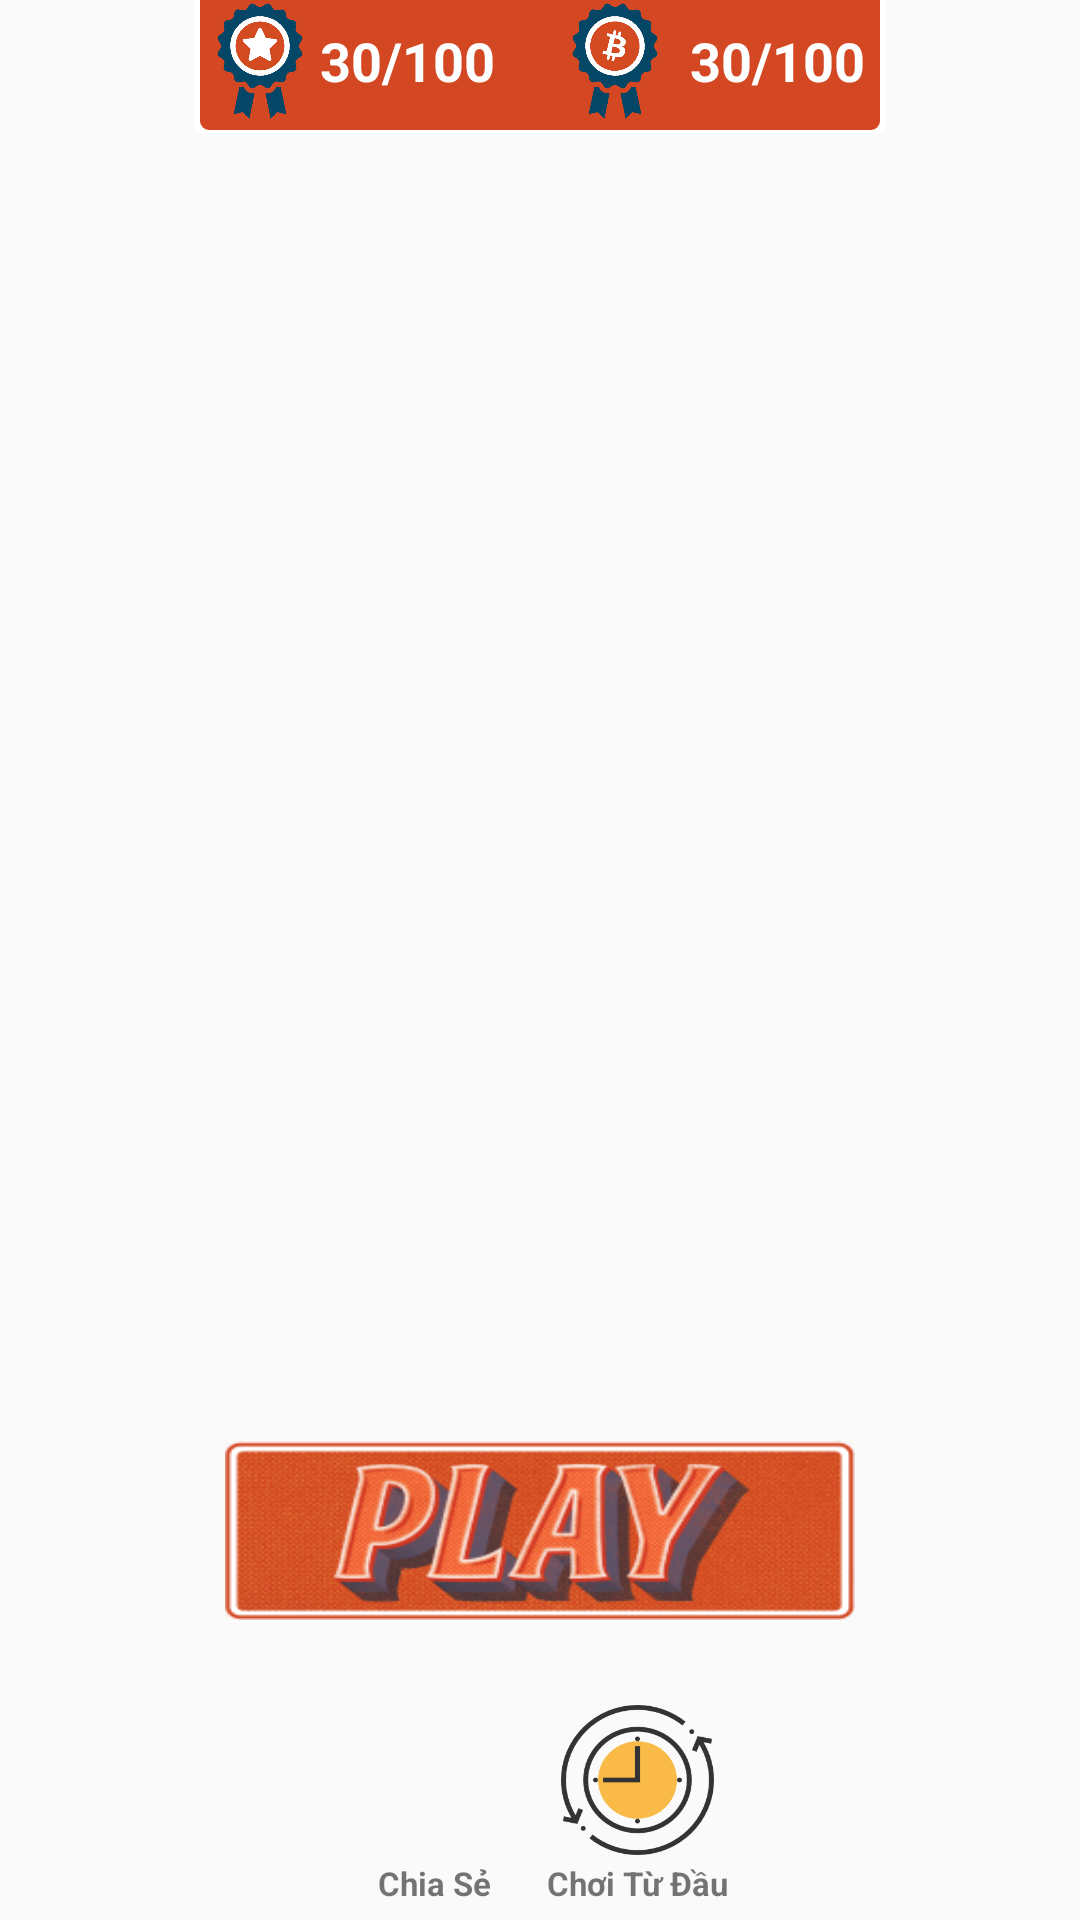

Screen size 1080px x 1920px. Icon name, then its center in pixels as (x=x, y=y):
award: (x=260, y=61)
clock: (x=637, y=1780)
